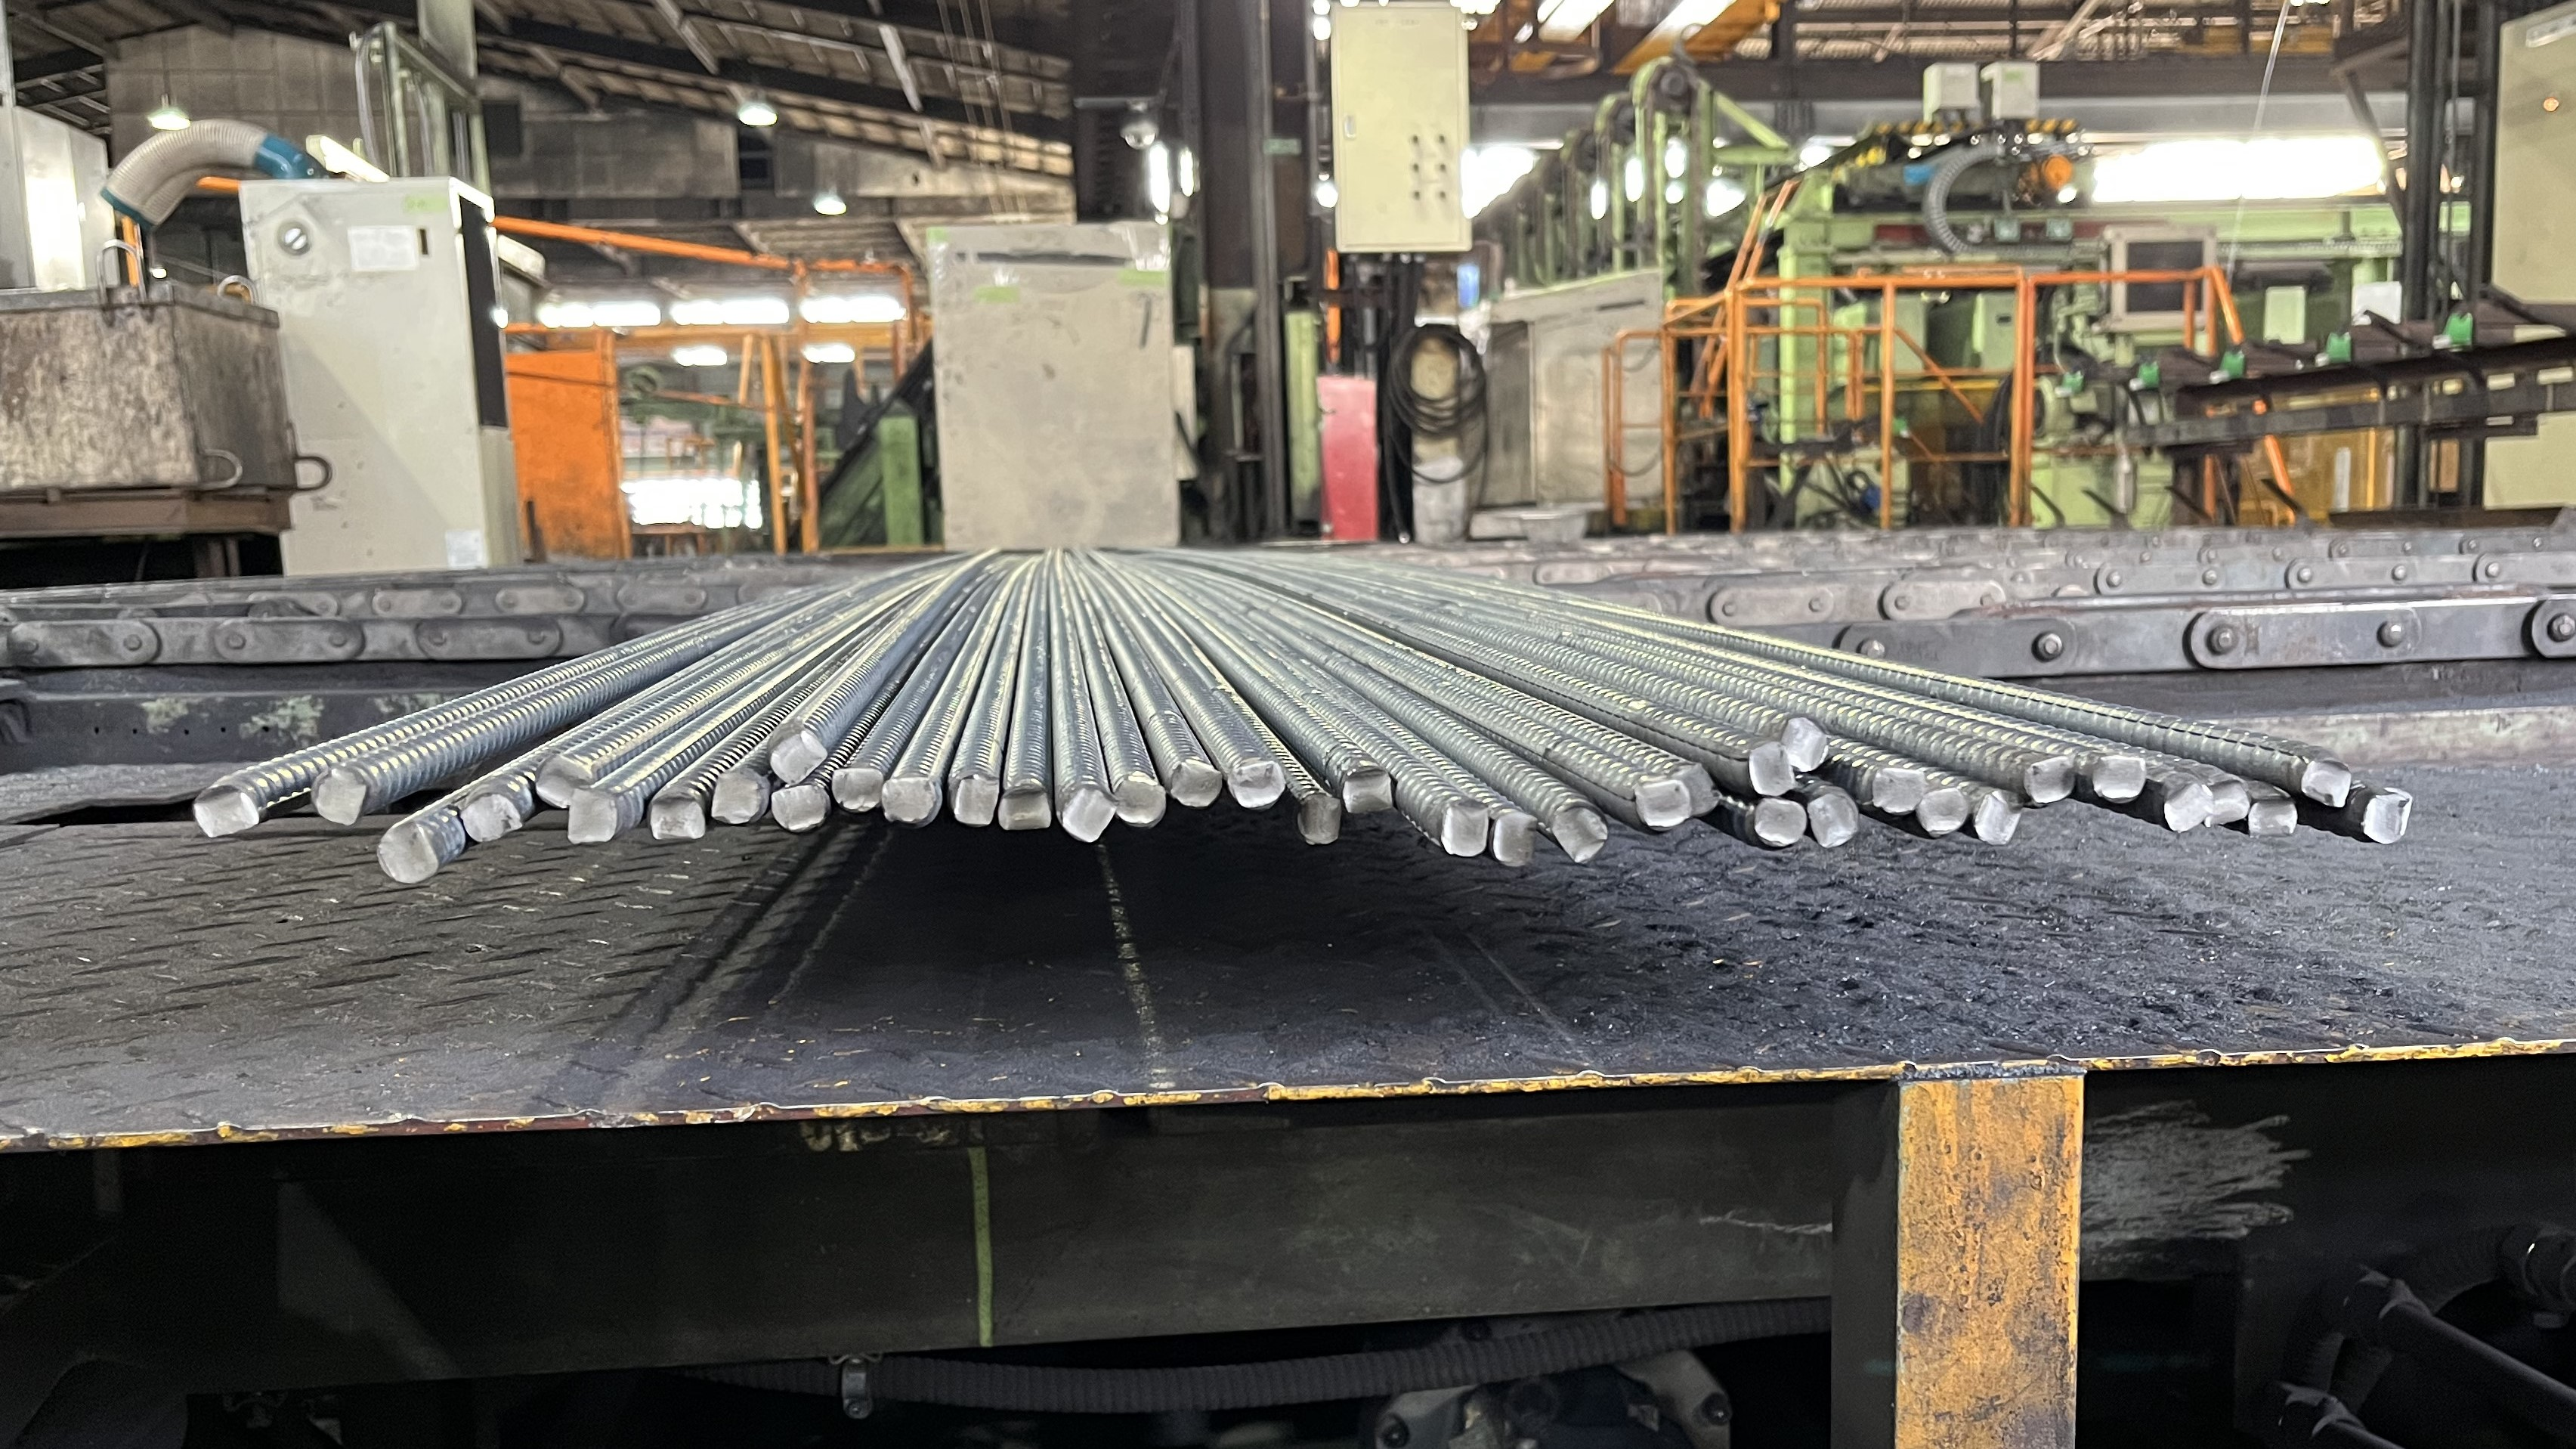rod: (373, 821, 441, 886), (189, 784, 262, 840), (1058, 784, 1120, 844), (310, 764, 368, 828), (1550, 805, 1608, 865), (534, 754, 594, 810), (768, 729, 830, 784), (460, 793, 524, 846), (1633, 778, 1693, 832), (1806, 789, 1859, 849), (568, 786, 619, 846), (644, 794, 706, 844), (2300, 754, 2353, 810), (1230, 759, 1288, 810), (1746, 740, 1798, 798), (1490, 809, 1539, 869), (1113, 777, 1168, 830), (711, 770, 763, 826), (1752, 796, 1808, 847), (996, 784, 1054, 833), (1440, 800, 1490, 858), (1974, 787, 2024, 846), (2089, 754, 2148, 803), (881, 777, 938, 826), (1782, 715, 1829, 773), (2162, 780, 2213, 833), (2358, 793, 2410, 846), (950, 773, 1000, 828), (1169, 761, 1224, 810), (770, 784, 826, 832), (1872, 768, 1928, 816), (1341, 766, 1394, 816), (1674, 761, 1721, 816), (2026, 755, 2077, 805), (1295, 793, 1343, 846), (1918, 787, 1967, 837), (2245, 794, 2300, 839), (2203, 778, 2250, 826), (830, 766, 885, 807)
